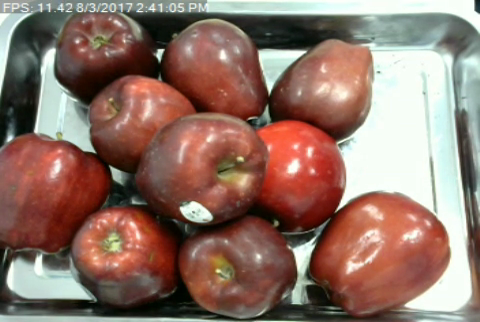Apple: (307, 186, 453, 322), (135, 110, 269, 226), (0, 129, 112, 260), (176, 211, 299, 322), (83, 71, 200, 176), (68, 202, 180, 309), (159, 15, 269, 122), (264, 35, 377, 139), (252, 117, 349, 237), (51, 6, 161, 106)
